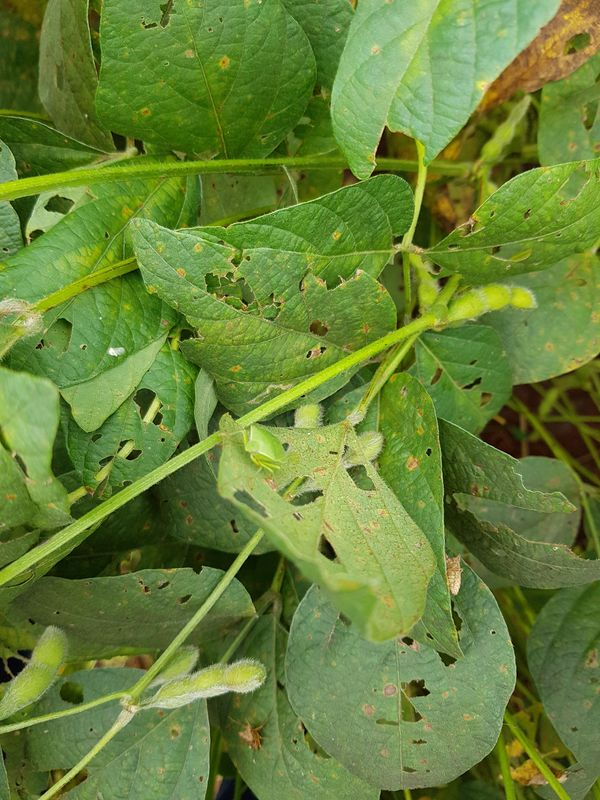Euschistus_heros_adulto: (437, 550, 472, 598), (234, 718, 271, 759)
Nezara_viridula_adulto: (227, 418, 293, 480)
